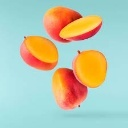mango: (19, 35, 58, 71)
